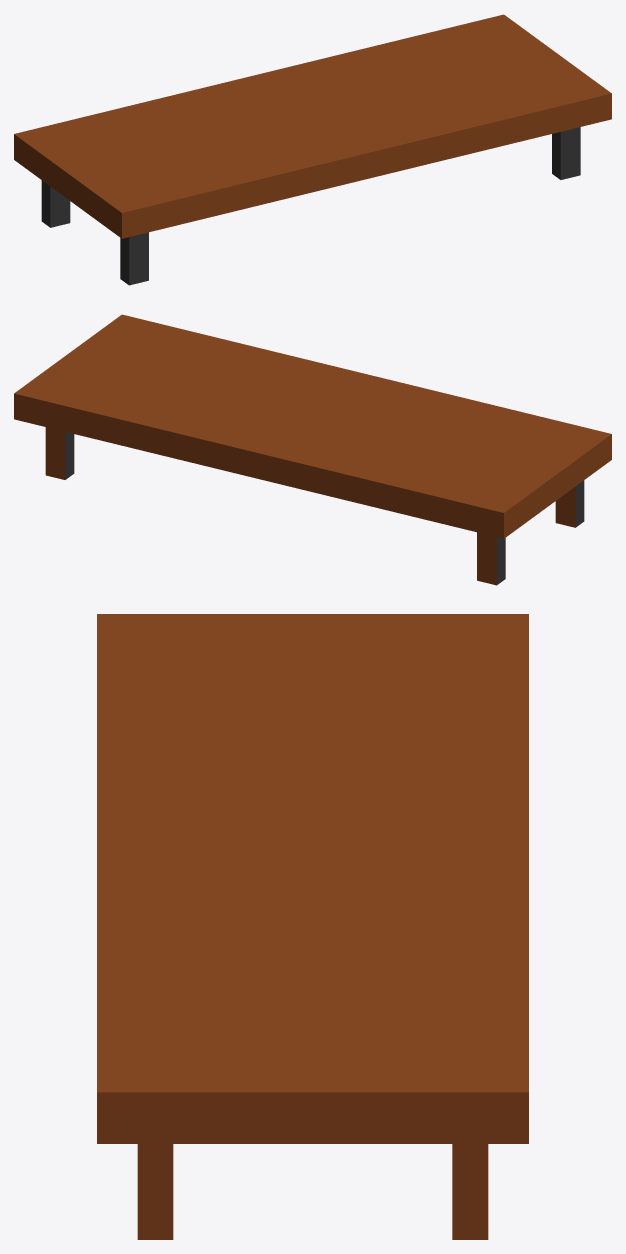
Rendered from Mesa.FBX.
The picture shows the model from 3 angles, top to bottom: view 1: azimuth 30°, elevation 25°; view 2: azimuth 150°, elevation 25°; view 3: azimuth 270°, elevation 25°; orthographic projection. The views are drawn at different scales.
Parts seen in each view (by area): view 1: G_Mesa; view 2: G_Mesa; view 3: G_Mesa.
Boxes of the visible parts, x1,y1,x2,y2 form: G_Mesa: [14, 14, 611, 285]; G_Mesa: [14, 314, 611, 585]; G_Mesa: [97, 614, 528, 1239].
Bounding box in the file's own units: 16.57 × 2.72 × 6.33.
